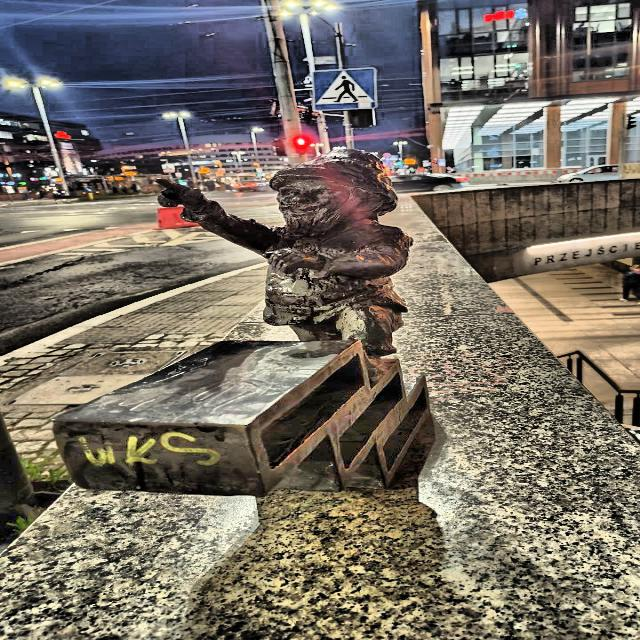Elementek: (53, 150, 429, 494)
